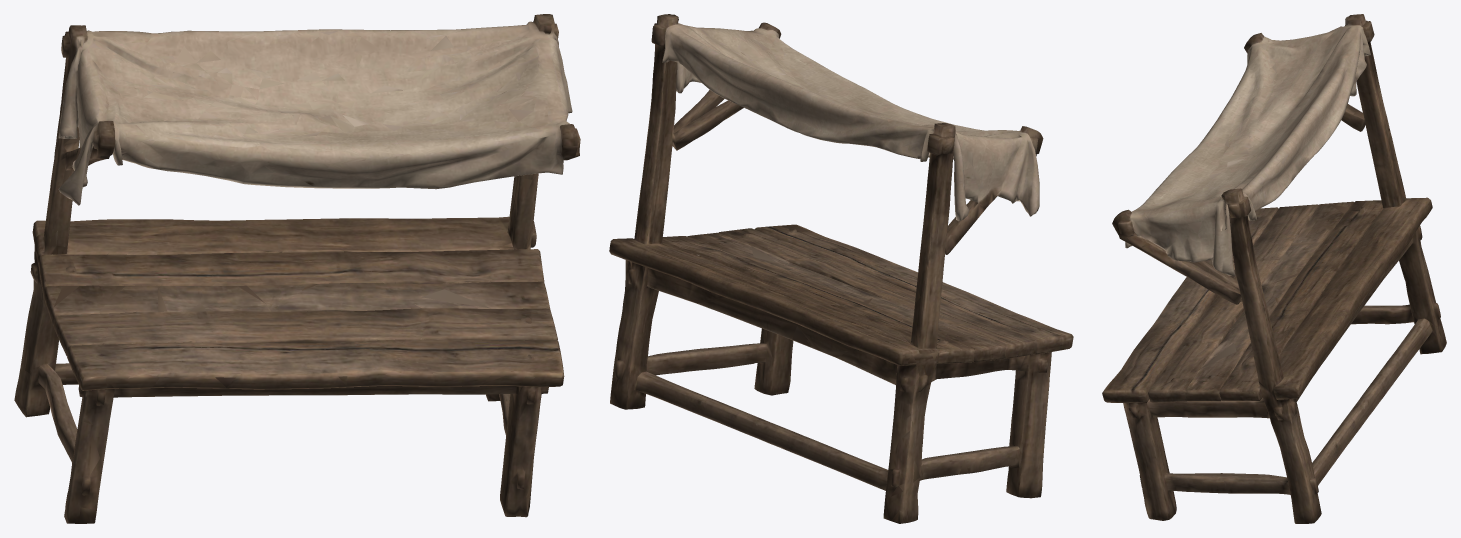
File: lamp-workbench-pixal3d-runtime.glb
The picture shows the model from 3 angles, left to right: view 1: azimuth 30°, elevation 25°; view 2: azimuth 150°, elevation 25°; view 3: azimuth 270°, elevation 25°; orthographic projection. The views are drawn at different scales.
Parts seen in each view (by area): view 1: geometry_0; view 2: geometry_0; view 3: geometry_0.
Part boxes in pixels (x1,y1,x2,y2): geometry_0: (14,14,580,523); geometry_0: (609,14,1073,523); geometry_0: (1102,14,1446,523).
Bounding box in the file's own units: 2.38 × 2.2 × 1.82.
Materials: 1 (1 with a texture image).
